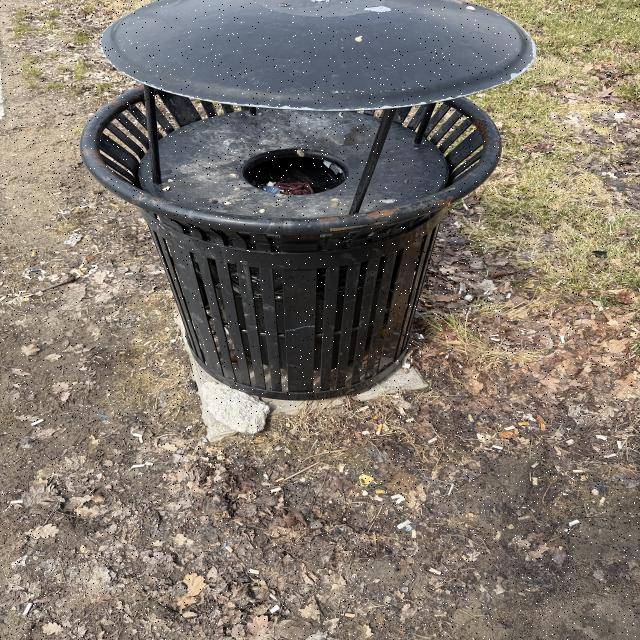Dustbin: (78, 0, 540, 398)
